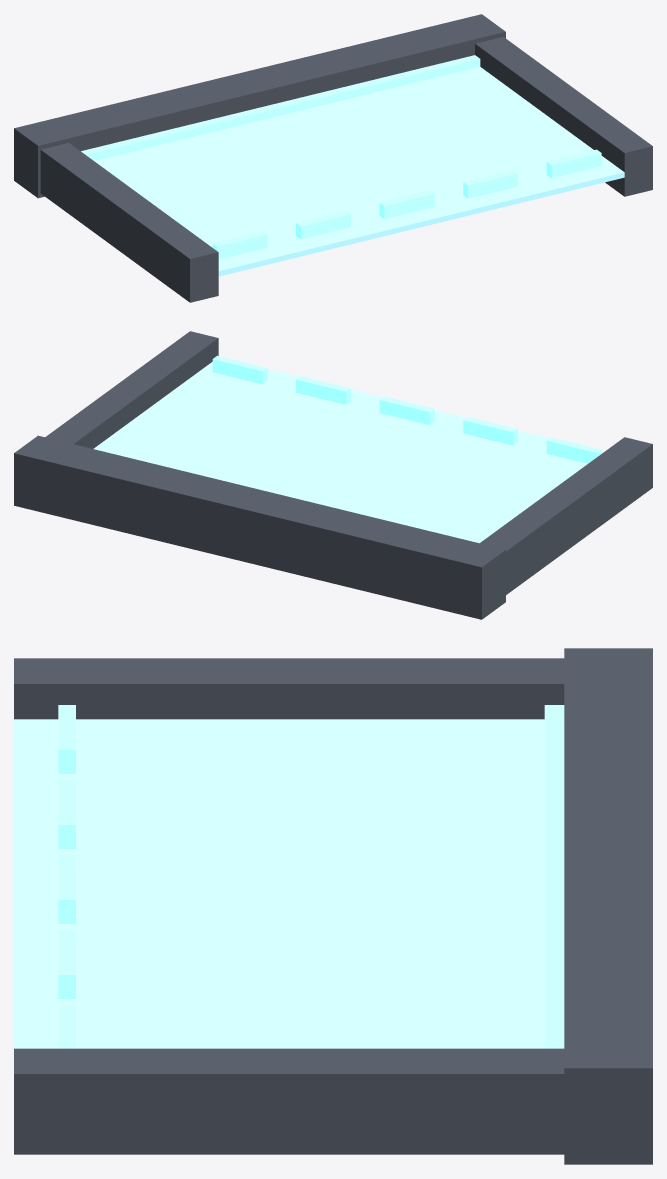
File: prop_spawn_arch.glb
3 renders of one model, top to bottom at view 1: azimuth 30°, elevation 25°; view 2: azimuth 150°, elevation 25°; view 3: azimuth 270°, elevation 25°, orthographic. The views are drawn at different scales.
Visible parts, largest first — view 1: prop_spawn_arch; view 2: prop_spawn_arch; view 3: prop_spawn_arch.
Boxes of the visible parts, x1=… form: prop_spawn_arch: x1=14, y1=14, x2=652, y2=302; prop_spawn_arch: x1=14, y1=331, x2=652, y2=619; prop_spawn_arch: x1=14, y1=648, x2=652, y2=1164.
Bounding box in the file's own units: 5.6 × 0.5999 × 3.6.
